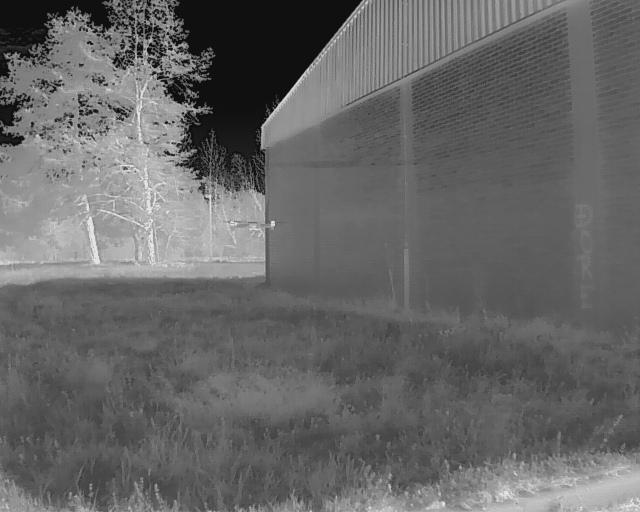drone: (221, 213, 285, 247)
